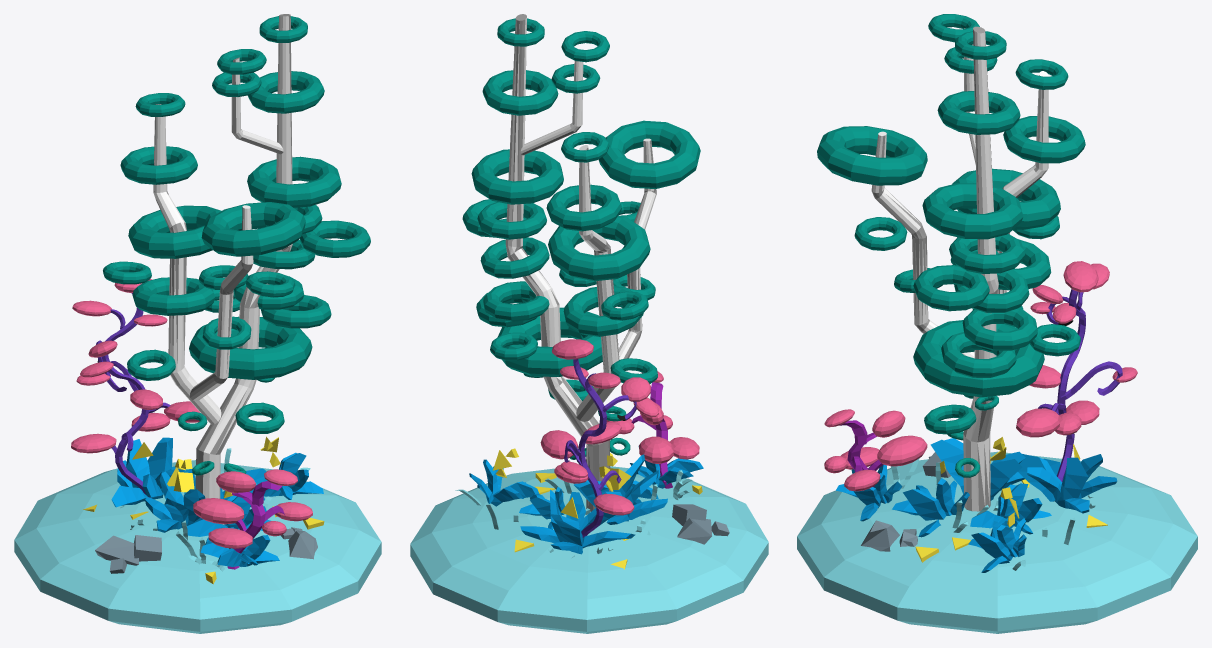
The model's file is Alien Plants.glb.
3 views of the same model, side by side, from view 1: azimuth 30°, elevation 25°; view 2: azimuth 150°, elevation 25°; view 3: azimuth 270°, elevation 25° (orthographic). The views are drawn at different scales.
Parts seen in each view (by area): view 1: group1862346398, group1611925300, group1673951575, group1469496402, group490427736, group1028463325, group1441540953, group1853281085, group602178960, group1051102918, group540475379, group1721943079 (+26 smaller); view 2: group1862346398, group1611925300, group1469496402, group1853281085, group1441540953, group490427736, group1028463325, group602178960, group1673951575, group1721943079, group478944397, group352203744 (+25 smaller); view 3: group1862346398, group1611925300, group1469496402, group490427736, group1673951575, group1441540953, group602178960, group1721943079, group478944397, group1995283381, group1051102918, group312409048 (+22 smaller).
Part boxes in pixels (<box>): group1862346398: <box>14,460,381,633</box>; group1611925300: <box>195,14,292,498</box>; group1673951575: <box>193,469,312,569</box>; group1469496402: <box>201,202,305,256</box>; group490427736: <box>189,316,312,379</box>; group1028463325: <box>153,104,221,424</box>; group1441540953: <box>247,156,341,207</box>; group1853281085: <box>128,205,221,258</box>; group602178960: <box>111,437,183,507</box>; group1051102918: <box>189,205,253,400</box>; group540475379: <box>132,277,214,315</box>; group1721943079: <box>120,146,197,184</box>; group1862346398: <box>410,466,768,633</box>; group1611925300: <box>505,14,610,511</box>; group1469496402: <box>598,120,700,189</box>; group1853281085: <box>548,215,650,281</box>; group1441540953: <box>471,149,563,204</box>; group490427736: <box>497,307,602,376</box>; group1028463325: <box>576,145,619,421</box>; group602178960: <box>520,489,635,554</box>; group1673951575: <box>606,371,699,488</box>; group1721943079: <box>546,184,621,231</box>; group478944397: <box>482,70,558,115</box>; group352203744: <box>564,359,636,537</box>; group1862346398: <box>797,451,1197,633</box>; group1611925300: <box>963,26,998,511</box>; group1469496402: <box>817,126,927,185</box>; group490427736: <box>913,320,1044,397</box>; group1673951575: <box>824,409,927,491</box>; group1441540953: <box>922,183,1023,239</box>; group602178960: <box>1018,454,1117,513</box>; group1721943079: <box>1003,116,1085,163</box>; group478944397: <box>937,91,1020,134</box>; group1995283381: <box>913,265,989,311</box>; group1051102918: <box>871,131,974,358</box>; group312409048: <box>962,308,1037,350</box>.
Bounding box in the file's own units: 1.82 × 3.07 × 1.88.
